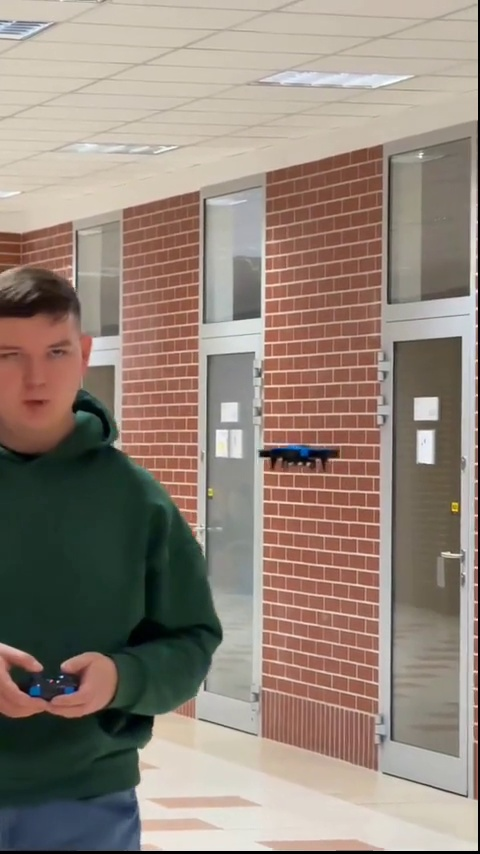drone: (258, 443, 338, 468)
no vest: (2, 256, 219, 840)
